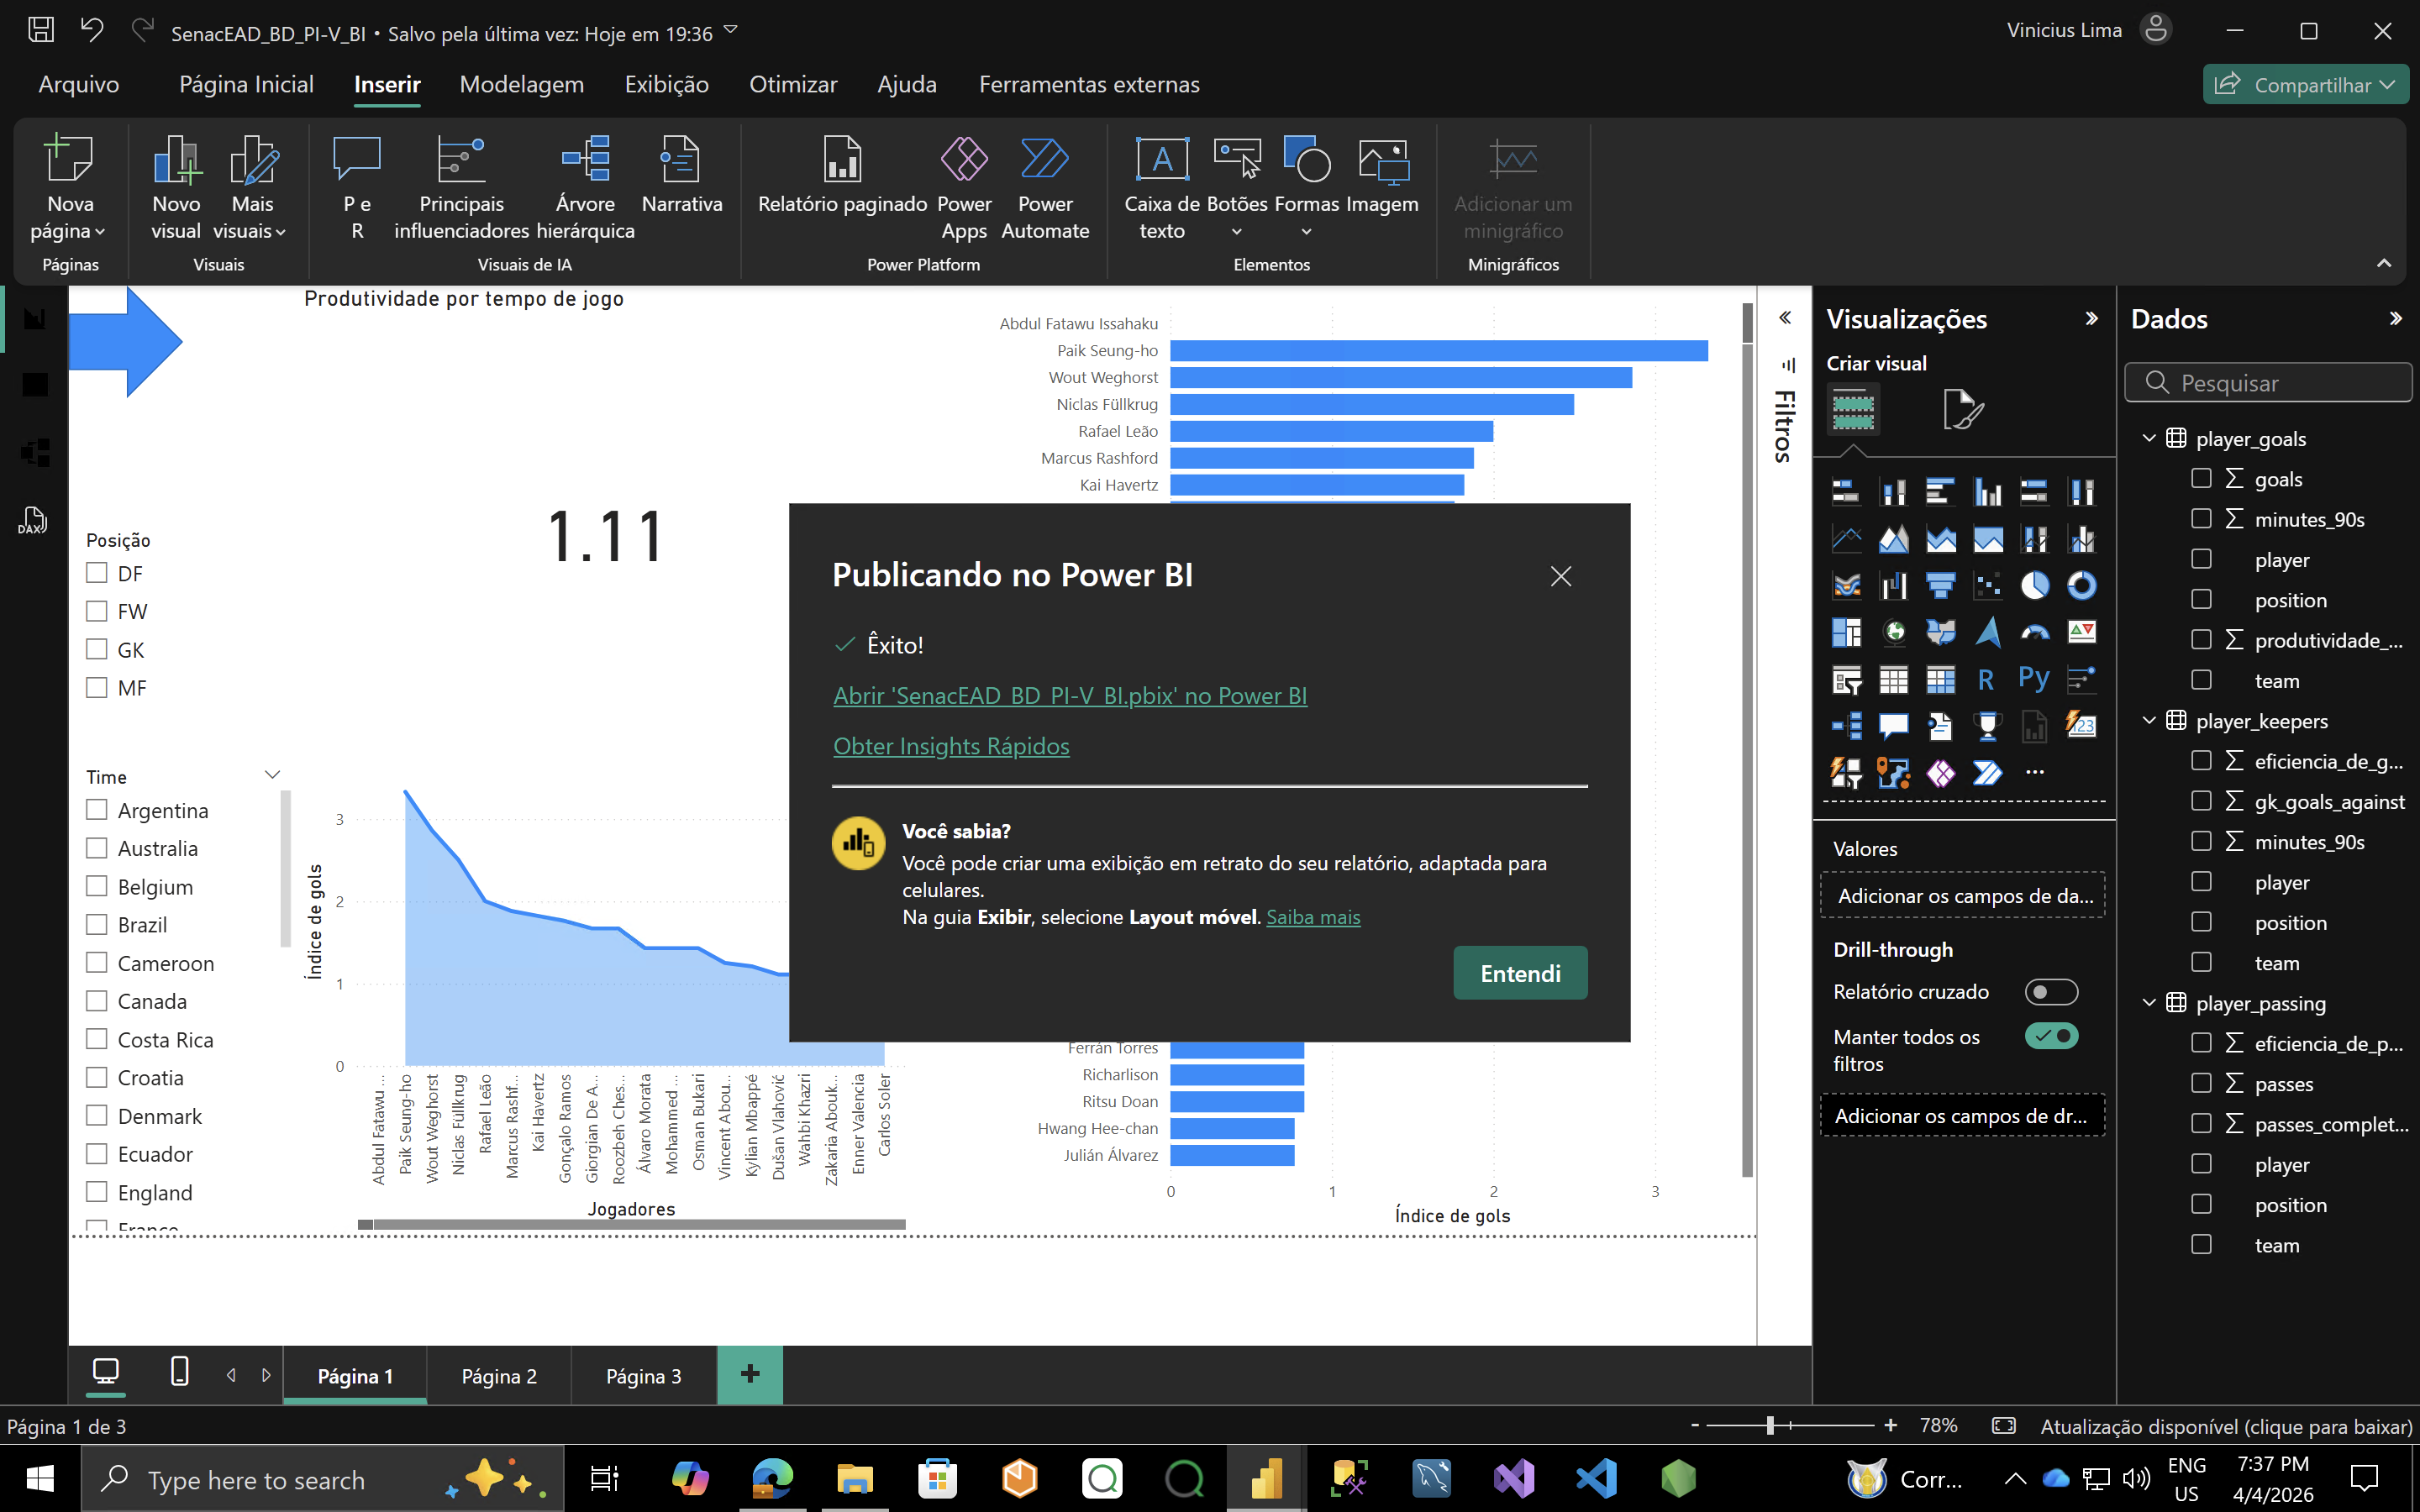

Layout of this report page (visuals, bound fields, positions):
{"tool":"powerbi","page":{"name":"Página 1","canvas":[1280,720],"ordinal":0},"visuals":[{"type":"clusteredBarChart","title":"Produtividade por tempo de jogo","fields":{"Category":["player_stats.player"],"Y":["Sum(player_stats.produtividade_por_tempo_de_jogo)"]},"box":[640,0,642.5,719],"z":0},{"type":"kpi","title":"Produtividade por tempo de jogo","fields":{"TrendLine":["player_stats.player"],"Indicator":["Sum(player_stats.produtividade_por_tempo_de_jogo)"]},"box":[173.4,0,467.9,359.5],"z":1000},{"type":"slicer","title":"Posição","fields":{"Values":["player_stats.position"]},"box":[0,0,173.4,359.5],"z":2000},{"type":"slicer","fields":{"Values":["player_stats.team"]},"box":[0,359.5,173.4,362.1],"z":3000},{"type":"stackedAreaChart","title":"Produtividade por tempo de jogo","fields":{"Category":["player_stats.player"],"Y":["Sum(player_stats.produtividade_por_tempo_de_jogo)"]},"box":[173.4,359.5,466.6,362.1],"z":4000}]}

Visuals, with their boxes on the page's 1280x720 design canvas (x1, y1, x2, y2). These are canvas units, not pixel positions in the 2420x1512 screenshot, which may show the page scaled, cropped or inside an application window:
"Produtividade por tempo de jogo" clusteredBarChart: [left=640, top=0, right=1282, bottom=719]
"Produtividade por tempo de jogo" kpi: [left=173, top=0, right=641, bottom=360]
"Posição" slicer: [left=0, top=0, right=173, bottom=360]
slicer - player_stats.team: [left=0, top=360, right=173, bottom=722]
"Produtividade por tempo de jogo" stackedAreaChart: [left=173, top=360, right=640, bottom=722]
